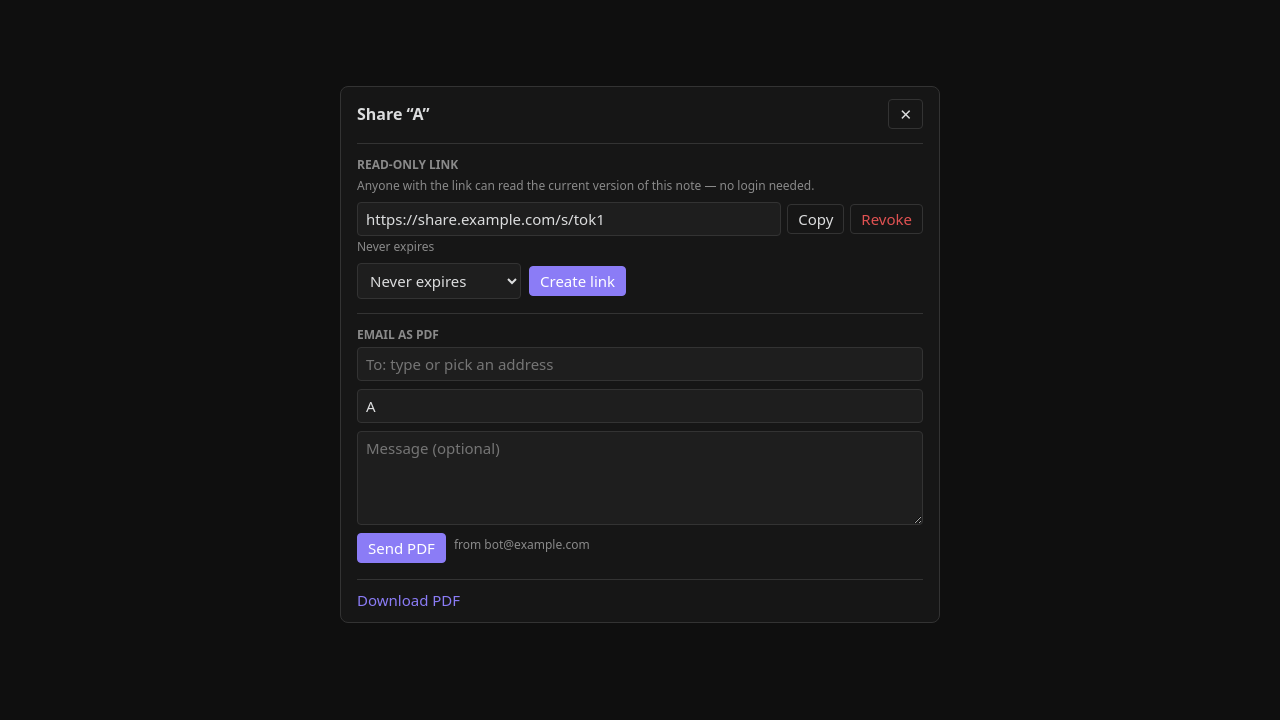
Test: ShareDialog email › asks for a recipient instead of sending to nobody
expect the text "from bot@example.com" is shown: met, box [454, 536, 590, 553]
Click the button "Send PDF" at coordinates (401, 548), box [357, 533, 446, 563]
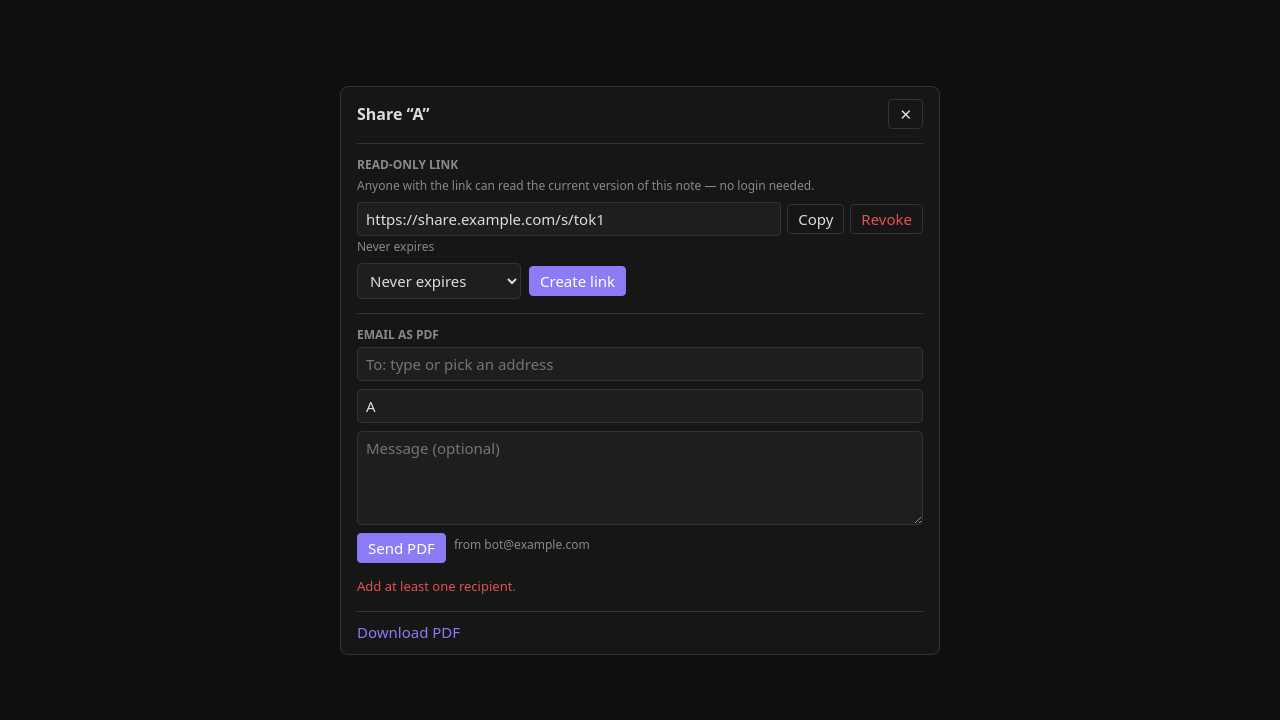
expect the text "Add at least one recipient." is shown: met, box [357, 577, 516, 595]
